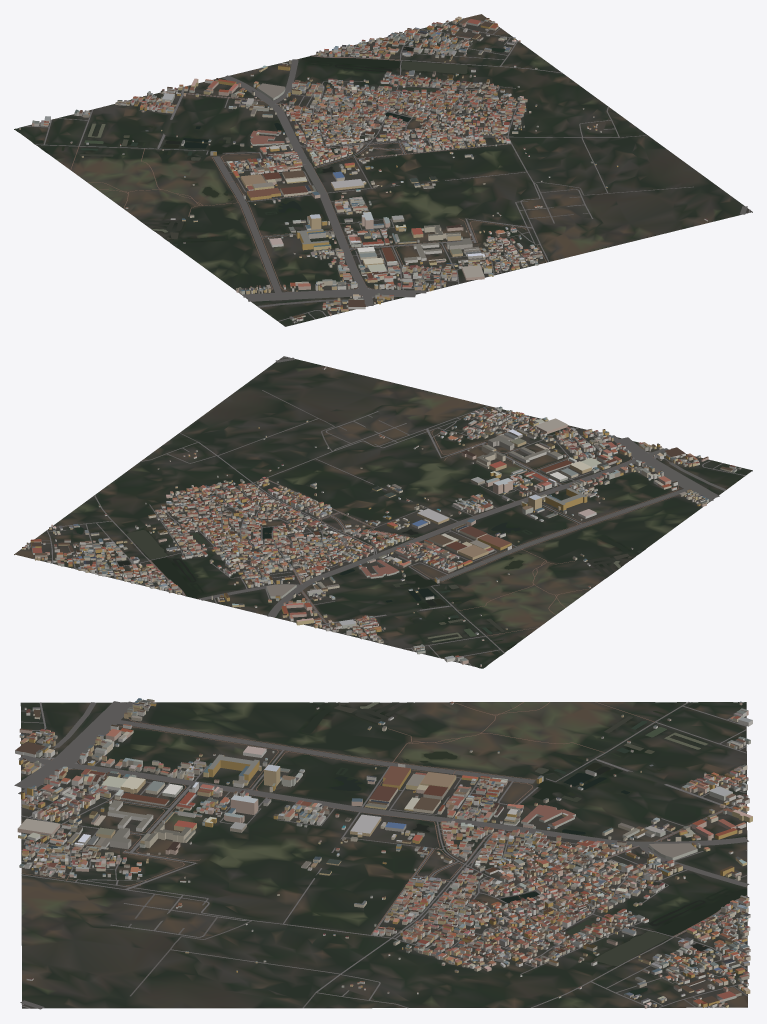
3 renders of one model, top to bottom at view 1: azimuth 30°, elevation 25°; view 2: azimuth 150°, elevation 25°; view 3: azimuth 270°, elevation 25°, orthographic. The views are drawn at different scales.
Visible parts, largest first — view 1: ground, buildings, roads, water; view 2: ground, buildings, roads, water; view 3: ground, buildings, roads, water.
Boxes of the visible parts, box(x1,y1,x2,y2) form: ground: box(14, 14, 752, 326); buildings: box(19, 16, 707, 323); roads: box(25, 18, 750, 323); water: box(17, 47, 505, 246); ground: box(14, 356, 752, 668); buildings: box(22, 367, 741, 666); roads: box(26, 357, 745, 665); water: box(74, 436, 643, 667); ground: box(20, 702, 747, 1008); buildings: box(15, 698, 752, 1008); roads: box(14, 701, 749, 1009); water: box(119, 702, 746, 995).
Size of the model in its own units: 1412 by 36.89 by 1427.
